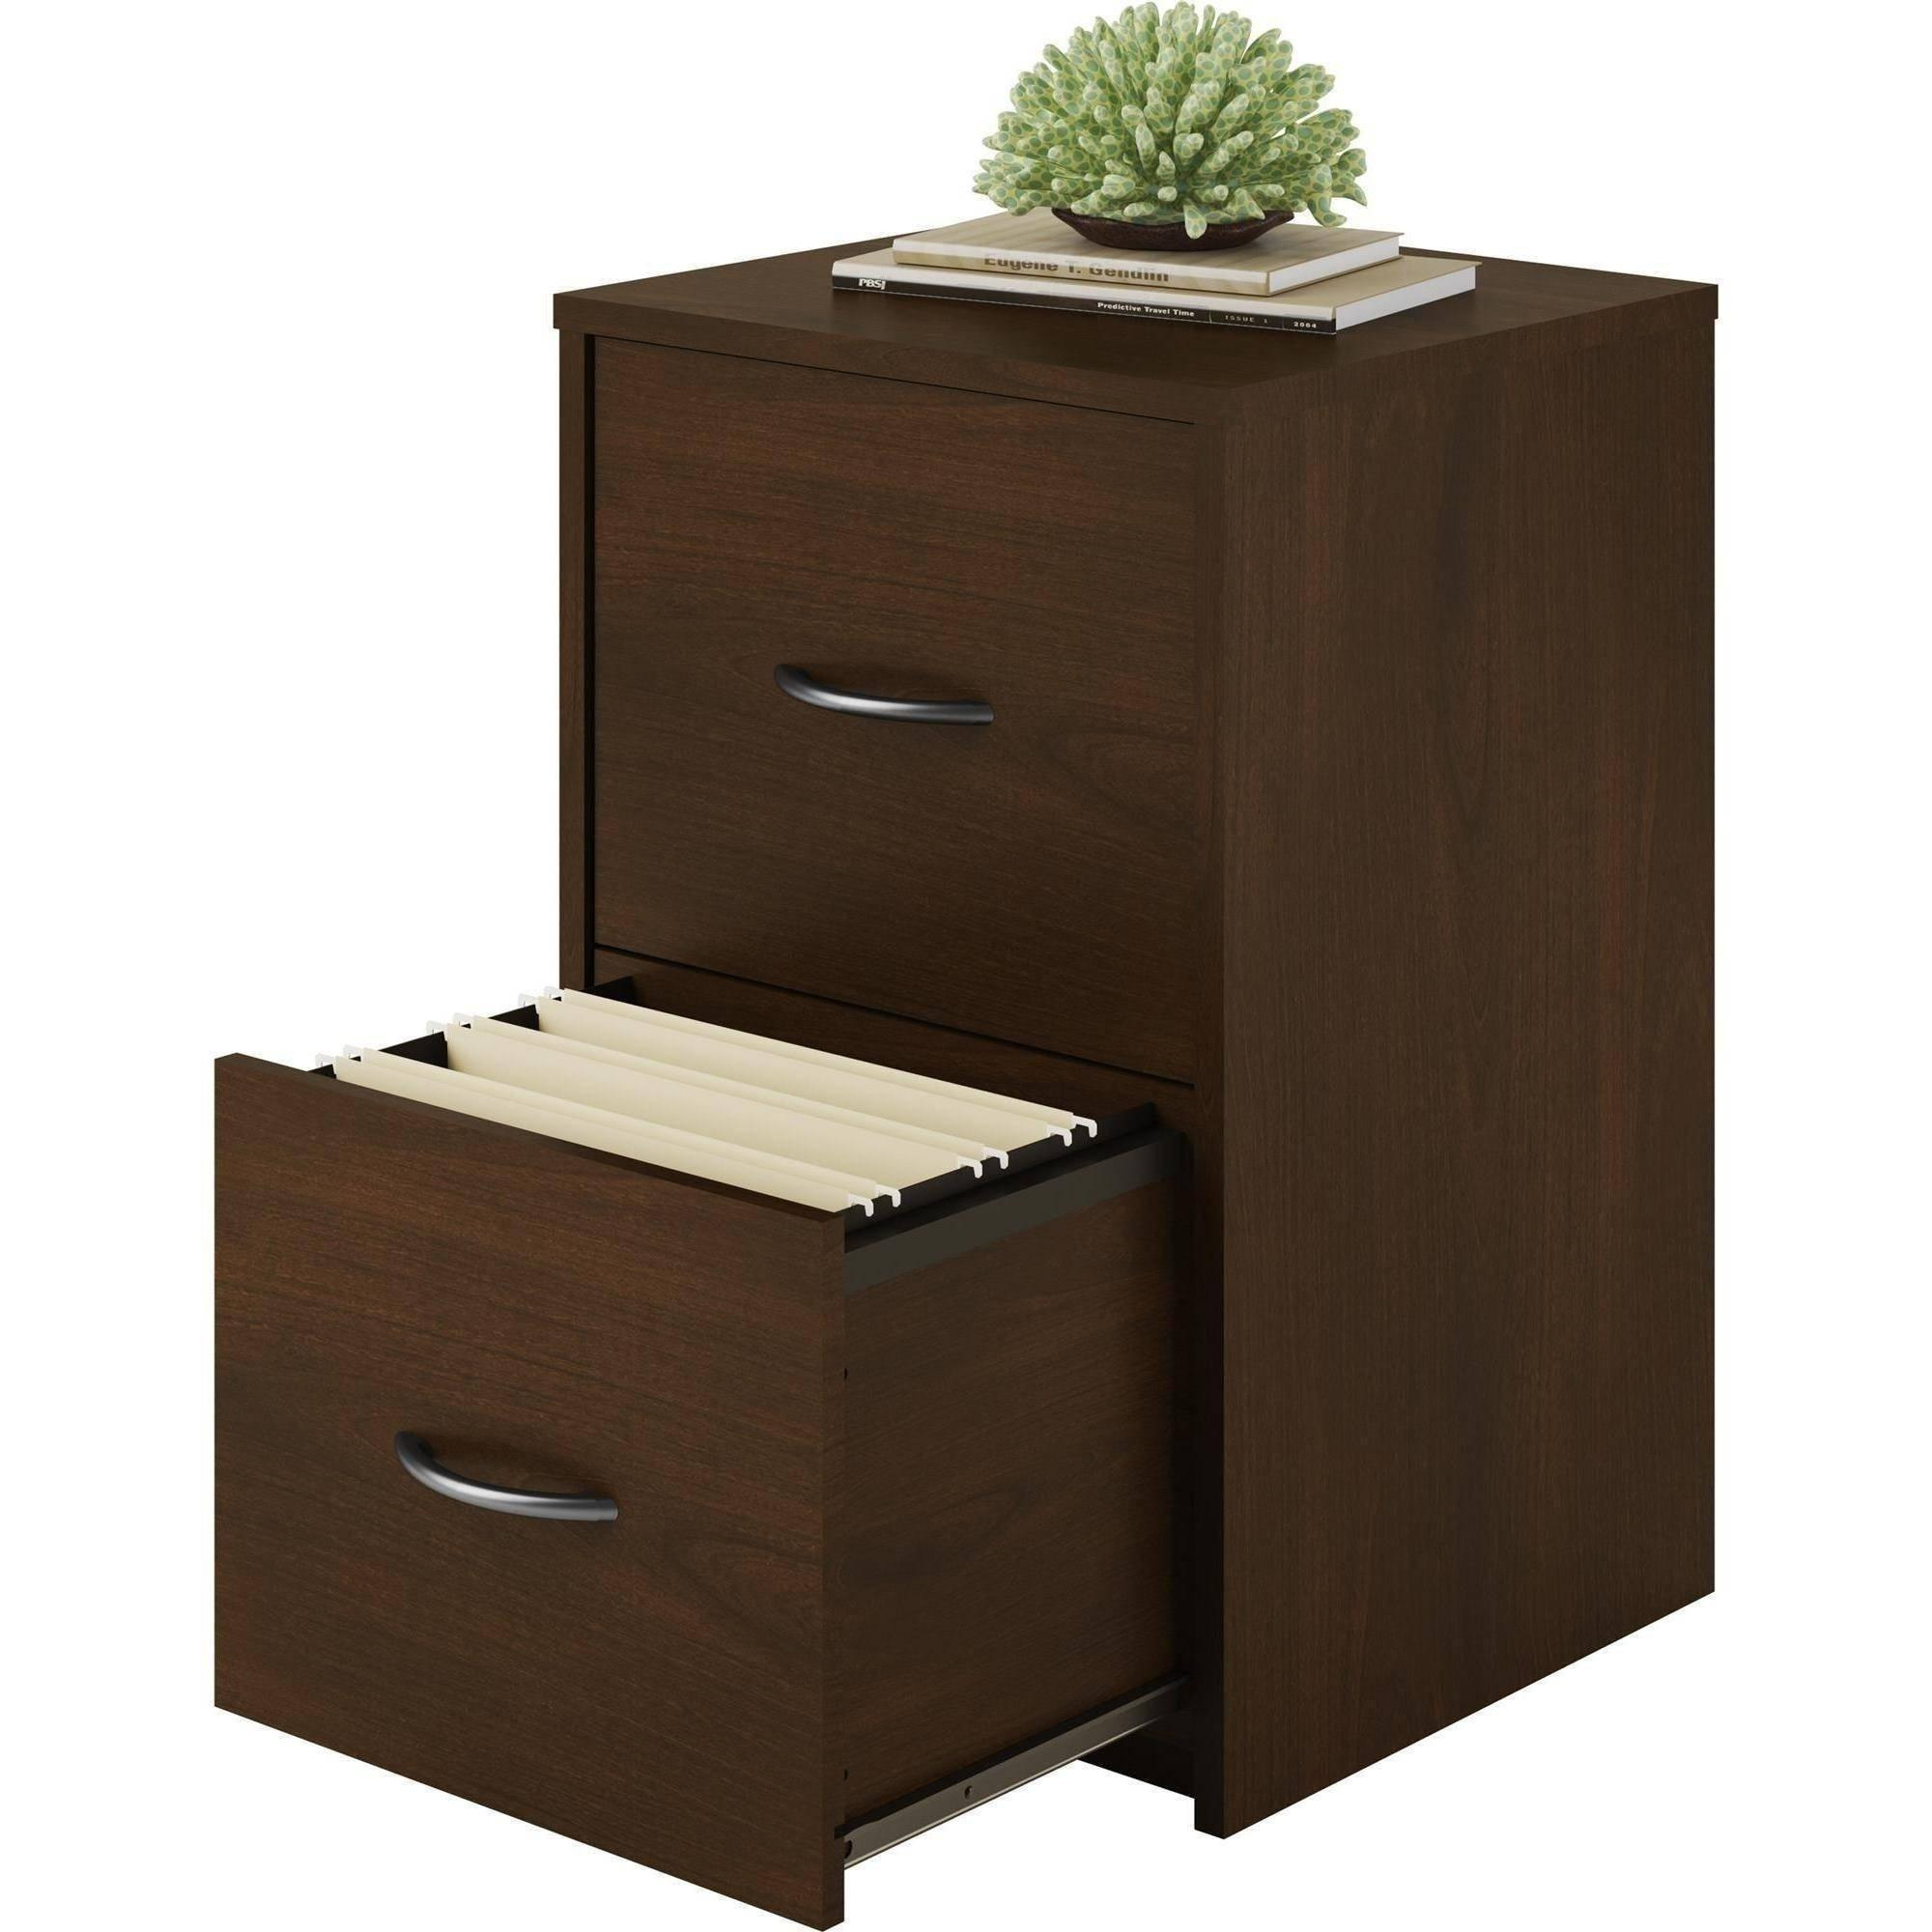Filing Cabinet: (209, 297, 1231, 1930)
